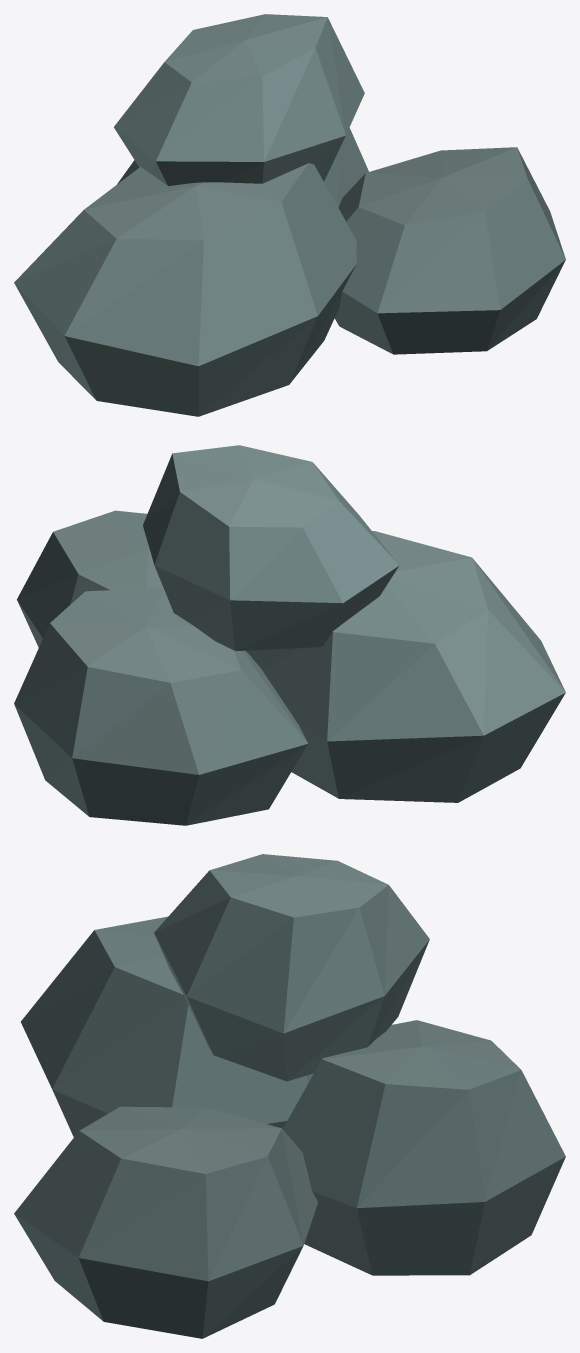
The model's file is rocks_small.glb.
3 renders of one model, top to bottom at view 1: azimuth 30°, elevation 25°; view 2: azimuth 150°, elevation 25°; view 3: azimuth 270°, elevation 25°, orthographic. The views are drawn at different scales.
Visible parts, largest first — view 1: Stone left, Stone right, Stone crown, Stone back; view 2: Stone left, Stone back, Stone crown, Stone right; view 3: Stone back, Stone right, Stone crown, Stone left.
Boxes of the visible parts, x1=… form: Stone left: x1=14, y1=163, x2=356, y2=416; Stone right: x1=334, y1=147, x2=565, y2=354; Stone crown: x1=114, y1=14, x2=364, y2=185; Stone back: x1=117, y1=128, x2=368, y2=207; Stone left: x1=246, y1=531, x2=565, y2=802; Stone back: x1=14, y1=588, x2=308, y2=825; Stone crown: x1=143, y1=445, x2=399, y2=651; Stone right: x1=17, y1=510, x2=163, y2=647; Stone back: x1=283, y1=1020, x2=565, y2=1275; Stone right: x1=14, y1=1106, x2=317, y2=1338; Stone crown: x1=154, y1=854, x2=429, y2=1081; Stone left: x1=21, y1=916, x2=313, y2=1137.
Size of the model in its own units: 0.6773 by 0.35 by 0.5325.
